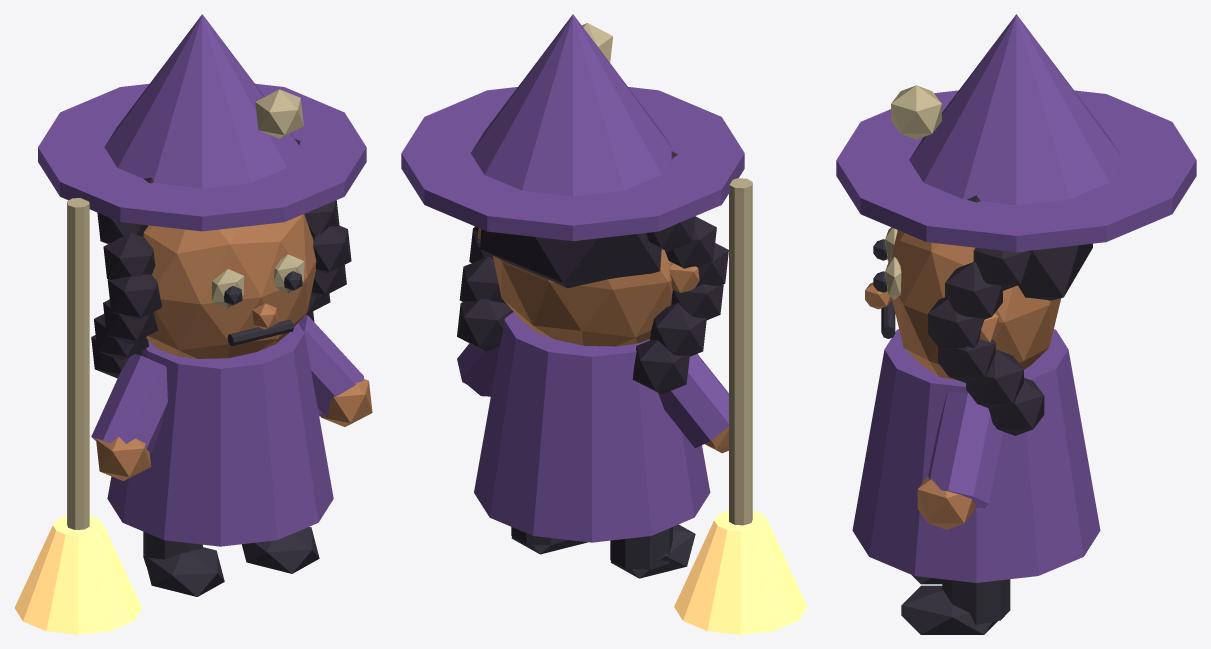
Rendered from sofia-moon-witch.glb.
3 views of the same model, side by side, from view 1: azimuth 30°, elevation 25°; view 2: azimuth 150°, elevation 25°; view 3: azimuth 270°, elevation 25° (orthographic). The views are drawn at different scales.
Visible parts, largest first — view 1: Costume torso.001, Head.001, Hair cap.001, Eye white.002, Broom bristles.001, Boot leg.002; view 2: Costume torso.001, Hair cap.001, Head.001, Broom bristles.001, Eye white.002, Boot leg.002; view 3: Costume torso.001, Hair cap.001, Head.001, Boot leg.002, Eye white.002.
Part boxes in pixels (x1,y1,x2,y2): Costume torso.001: (38, 14, 366, 546); Head.001: (96, 214, 372, 481); Hair cap.001: (91, 139, 351, 378); Eye white.002: (67, 89, 304, 529); Broom bristles.001: (14, 515, 141, 634); Boot leg.002: (143, 271, 319, 596); Costume torso.001: (401, 14, 744, 542); Hair cap.001: (457, 151, 728, 394); Head.001: (462, 228, 728, 453); Broom bristles.001: (674, 510, 807, 634); Eye white.002: (582, 23, 752, 525); Boot leg.002: (511, 524, 695, 578); Costume torso.001: (836, 14, 1196, 582); Hair cap.001: (928, 195, 1092, 435); Head.001: (865, 230, 1061, 529); Boot leg.002: (873, 239, 1010, 634); Eye white.002: (885, 85, 941, 299).
Bounding box in the file's own units: 0.0215 × 0.033 × 0.018.
